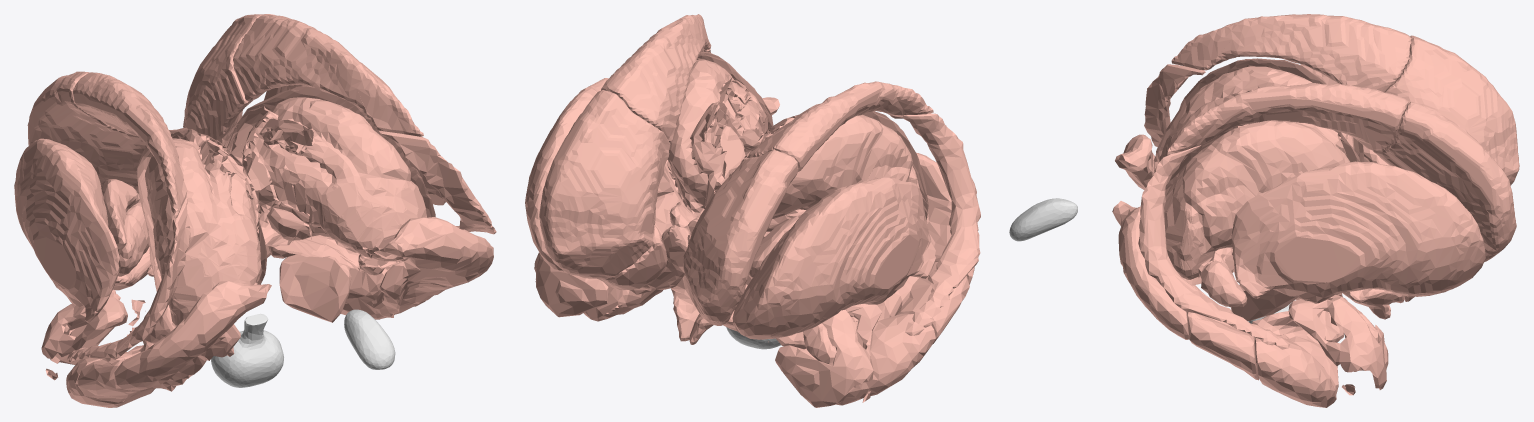
The model's file is subcortical.glb.
3 views of the same model, side by side, from view 1: azimuth 30°, elevation 25°; view 2: azimuth 150°, elevation 25°; view 3: azimuth 270°, elevation 25° (orthographic). The views are drawn at different scales.
Parts seen in each view (by area): view 1: thalamus_rh, caudate_rh, caudate_lh, thalamus_lh, putamen_lh, hippocampus_lh, hippocampus_rh, substantia_nigra_rh, amygdala_lh, pituitary, pulvinar_rh, pineal (+6 smaller); view 2: caudate_rh, caudate_lh, putamen_lh, thalamus_rh, thalamus_lh, hippocampus_lh, amygdala_lh, putamen_rh, amygdala_rh, hippocampus_rh, nucleus_accumbens_rh, tmn (+6 smaller); view 3: putamen_rh, caudate_rh, caudate_lh, thalamus_rh, hippocampus_rh, amygdala_rh, thalamus_lh, pineal, pulvinar_rh, hippocampus_lh, lgn_rh, substantia_nigra_rh (+1 smaller).
Boxes of the visible parts, <box> form: thalamus_rh: <box>219,86,435,272</box>; caudate_rh: <box>183,14,496,234</box>; caudate_lh: <box>27,71,190,362</box>; thalamus_lh: <box>137,127,267,330</box>; putamen_lh: <box>14,138,119,322</box>; hippocampus_lh: <box>66,281,271,407</box>; hippocampus_rh: <box>341,217,493,319</box>; substantia_nigra_rh: <box>279,254,351,322</box>; amygdala_lh: <box>41,289,145,380</box>; pituitary: <box>211,313,283,387</box>; pulvinar_rh: <box>322,179,425,261</box>; pineal: <box>344,309,395,369</box>; caudate_rh: <box>539,14,711,279</box>; caudate_lh: <box>683,81,980,335</box>; putamen_lh: <box>732,177,936,339</box>; thalamus_rh: <box>664,51,773,217</box>; thalamus_lh: <box>740,111,928,236</box>; hippocampus_lh: <box>805,152,974,405</box>; amygdala_lh: <box>768,304,881,407</box>; putamen_rh: <box>525,78,608,273</box>; amygdala_rh: <box>534,252,651,317</box>; hippocampus_rh: <box>583,97,779,321</box>; nucleus_accumbens_rh: <box>598,225,667,290</box>; tmn: <box>671,217,751,344</box>; putamen_rh: <box>1231,161,1485,303</box>; caudate_rh: <box>1138,83,1516,349</box>; caudate_lh: <box>1144,14,1519,185</box>; thalamus_rh: <box>1164,120,1360,285</box>; hippocampus_rh: <box>1112,201,1338,407</box>; amygdala_rh: <box>1288,295,1388,395</box>; thalamus_lh: <box>1153,58,1364,171</box>; pineal: <box>1009,198,1077,241</box>; pulvinar_rh: <box>1165,171,1214,279</box>; hippocampus_lh: <box>1115,134,1342,311</box>; lgn_rh: <box>1201,260,1247,306</box>; substantia_nigra_rh: <box>1230,284,1297,321</box>.
Size of the model in its own units: 87.73 by 70.91 by 104.
